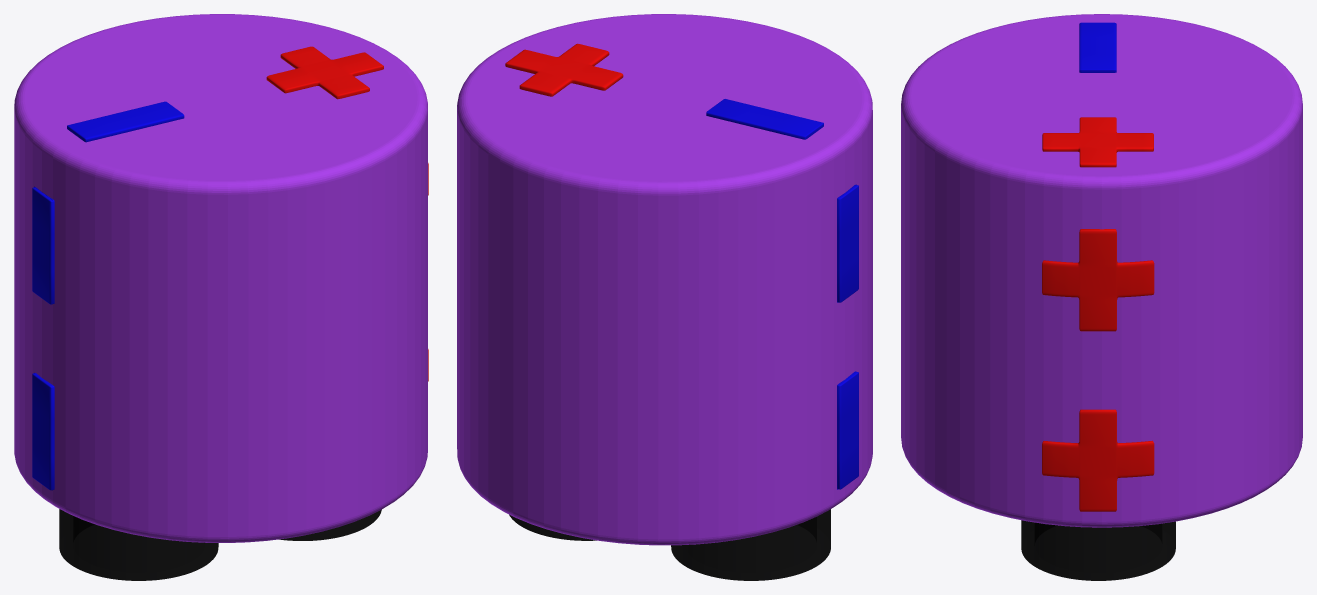
File: capacitor.fbx
3 views of the same model, side by side, from view 1: azimuth 30°, elevation 25°; view 2: azimuth 150°, elevation 25°; view 3: azimuth 270°, elevation 25° (orthographic). The views are drawn at different scales.
Visible parts, largest first — view 1: Cylinder, leg minus, plus 3, minus 3.002, minus 3.001, minus 3, leg plus; view 2: Cylinder, leg minus, plus 3, minus 3.002, minus 3.001, minus 3; view 3: Cylinder, leg plus, plus 2, plus 1, plus 3, minus 3.
Part boxes in pixels (x1=…): Cylinder: x1=14, y1=14, x2=427, y2=542; leg minus: x1=59, y1=509, x2=218, y2=580; plus 3: x1=266, y1=46, x2=383, y2=99; minus 3.002: x1=32, y1=373, x2=54, y2=490; minus 3.001: x1=32, y1=187, x2=54, y2=304; minus 3: x1=67, y1=101, x2=184, y2=142; leg plus: x1=279, y1=509, x2=381, y2=540; Cylinder: x1=457, y1=14, x2=872, y2=545; leg minus: x1=671, y1=509, x2=830, y2=580; plus 3: x1=505, y1=43, x2=623, y2=96; minus 3.002: x1=837, y1=371, x2=858, y2=489; minus 3.001: x1=837, y1=184, x2=858, y2=302; minus 3: x1=706, y1=99, x2=823, y2=139; Cylinder: x1=901, y1=14, x2=1302, y2=527; leg plus: x1=1021, y1=520, x2=1175, y2=580; plus 2: x1=1042, y1=229, x2=1154, y2=331; plus 1: x1=1042, y1=409, x2=1154, y2=511; plus 3: x1=1042, y1=117, x2=1153, y2=167; minus 3: x1=1079, y1=22, x2=1116, y2=72.
Bounding box in the file's own units: 529 × 598 × 520.
